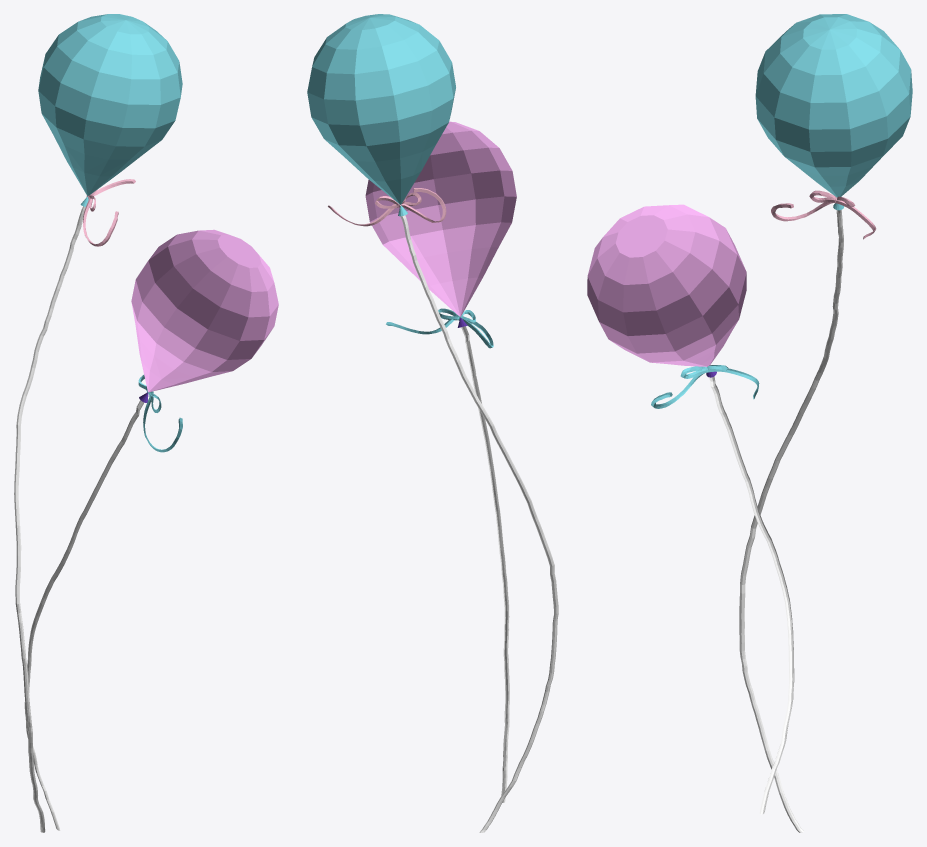
Rendered from balloon.obj.
3 renders of one model, left to right at view 1: azimuth 30°, elevation 25°; view 2: azimuth 150°, elevation 25°; view 3: azimuth 270°, elevation 25°, orthographic. The views are drawn at different scales.
Parts seen in each view (by area): view 1: Object001, default; view 2: Object001, default; view 3: Object001, default.
Part boxes in pixels (x1,y1,x2,y2): Object001: (14,14,182,832); default: (24,229,278,830); Object001: (307,14,558,832); default: (365,121,516,802); Object001: (739,14,912,832); default: (587,204,794,814).
Size of the model in its own units: 31.88 by 112 by 38.54.
